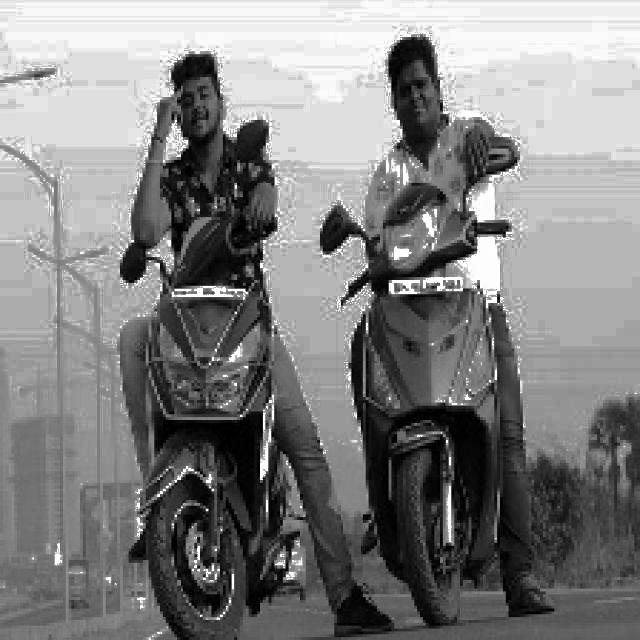Bike: (119, 201, 286, 639), (339, 175, 497, 621)
